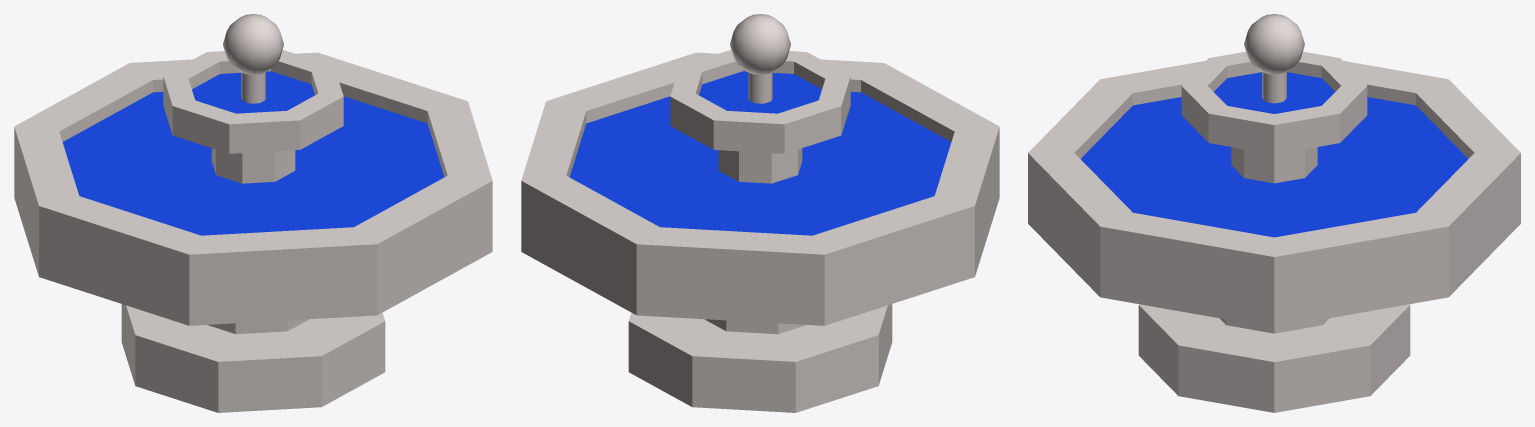
Rendered from dai phun nuoc.FBX.
3 renders of one model, left to right at view 1: azimuth 30°, elevation 25°; view 2: azimuth 150°, elevation 25°; view 3: azimuth 270°, elevation 25°, orthographic.
Visible parts, largest first — view 1: Cylinder253; view 2: Cylinder253; view 3: Cylinder253.
Boxes of the visible parts, x1,y1,x2,y2 form: Cylinder253: [14, 14, 492, 412]; Cylinder253: [521, 14, 999, 412]; Cylinder253: [1028, 14, 1520, 412].
Size of the model in its own units: 4.88 by 3.7 by 4.88.
